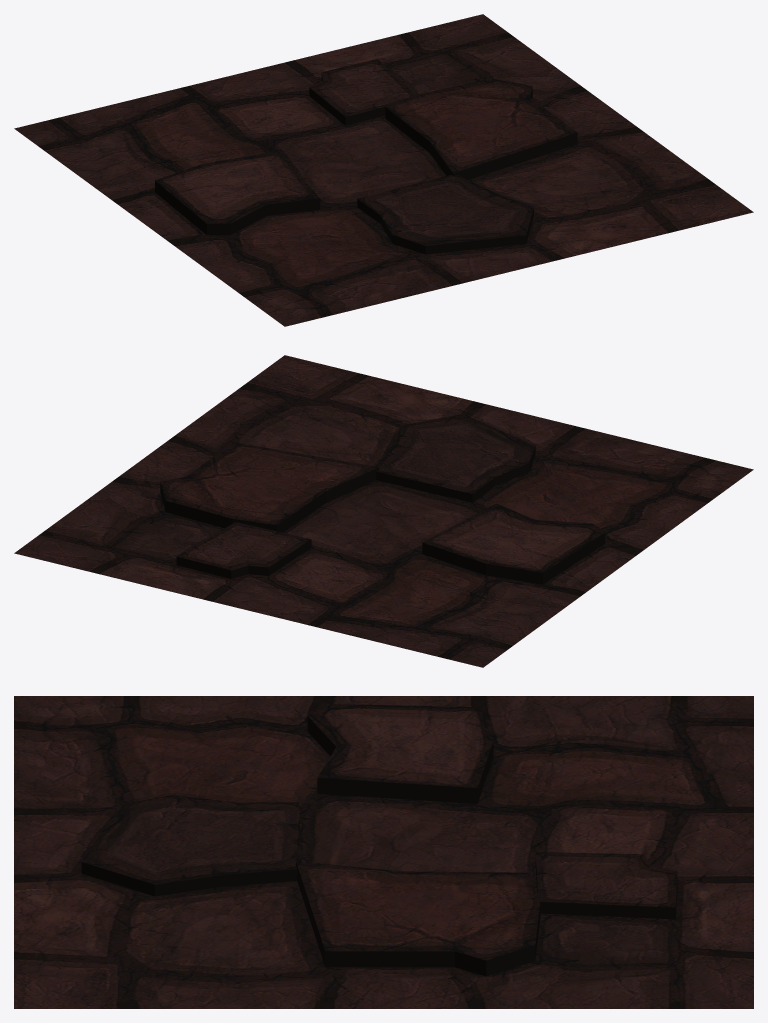
File: lava_floor_blank_08.fbx
3 views of the same model, one above another, from view 1: azimuth 30°, elevation 25°; view 2: azimuth 150°, elevation 25°; view 3: azimuth 270°, elevation 25° (orthographic). The views are drawn at different scales.
Visible parts, largest first — view 1: obj0.021; view 2: obj0.021; view 3: obj0.021.
Part boxes in pixels (x1,y1,x2,y2): obj0.021: [14, 14, 753, 326]; obj0.021: [14, 355, 753, 667]; obj0.021: [14, 696, 753, 1008].
Size of the model in its own units: 4 by 0.095 by 4.
